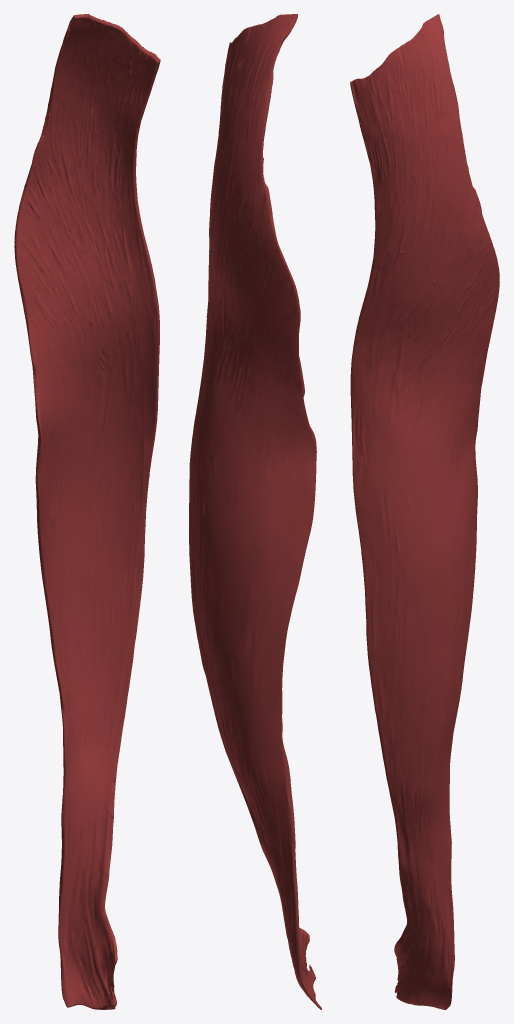
File: iliotibial-tract-l.glb
3 views of the same model, side by side, from view 1: azimuth 90°, elevation 25°; view 2: azimuth 210°, elevation 25°; view 3: azimuth 270°, elevation 25° (orthographic). The views are drawn at different scales.
Visible parts, largest first — view 1: Iliotibial tract.l; view 2: Iliotibial tract.l; view 3: Iliotibial tract.l.
Boxes of the visible parts, left/top/right/bottom form: Iliotibial tract.l: left=14, top=14, right=160, bottom=1009; Iliotibial tract.l: left=189, top=14, right=321, bottom=1009; Iliotibial tract.l: left=350, top=14, right=499, bottom=1009.
Size of the model in its own units: 0.0714 by 0.6053 by 0.0816.
